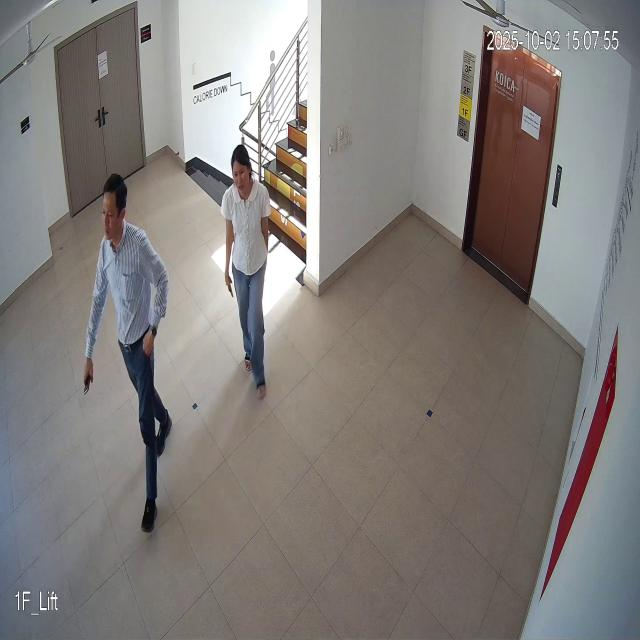face: (96, 169, 128, 245), (229, 144, 258, 198)
